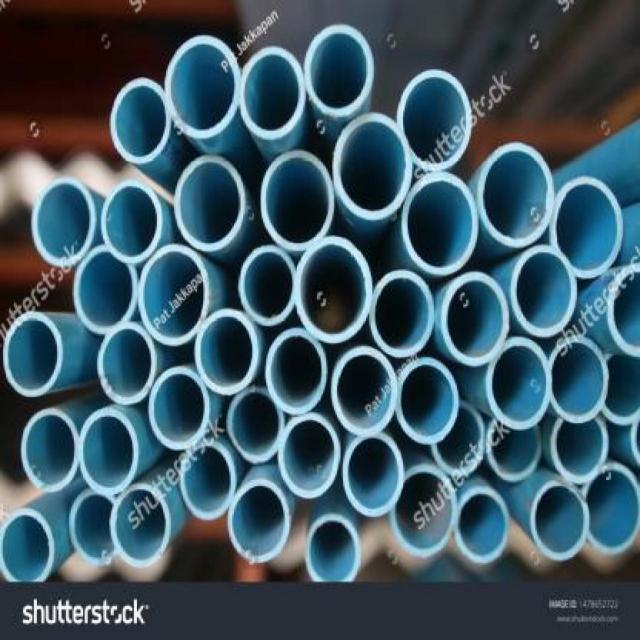pipe: (332, 113, 412, 221), (294, 235, 371, 344), (165, 35, 242, 140), (477, 143, 554, 247), (402, 172, 479, 276), (396, 69, 472, 171), (549, 176, 623, 280), (261, 150, 335, 250), (138, 246, 211, 345), (173, 154, 246, 251), (304, 23, 375, 118), (441, 271, 509, 367), (508, 245, 576, 338), (238, 47, 305, 140), (368, 268, 435, 359), (486, 337, 551, 430), (392, 465, 457, 558), (331, 347, 398, 435), (32, 177, 97, 266), (74, 245, 139, 333), (195, 309, 260, 396), (580, 463, 640, 556), (227, 478, 292, 561), (101, 179, 163, 266), (396, 358, 459, 443), (278, 413, 341, 498), (549, 336, 609, 424), (109, 483, 171, 568), (111, 77, 171, 164), (3, 310, 63, 397), (266, 328, 326, 415), (149, 366, 210, 451), (79, 407, 137, 495), (342, 435, 404, 517), (96, 323, 156, 406), (22, 408, 80, 491), (530, 480, 589, 561), (180, 438, 237, 521), (227, 385, 286, 465), (239, 245, 296, 327), (455, 486, 509, 565), (1, 508, 56, 581), (550, 417, 609, 484), (70, 489, 119, 566), (305, 514, 360, 582), (600, 348, 640, 427), (607, 263, 640, 355)
